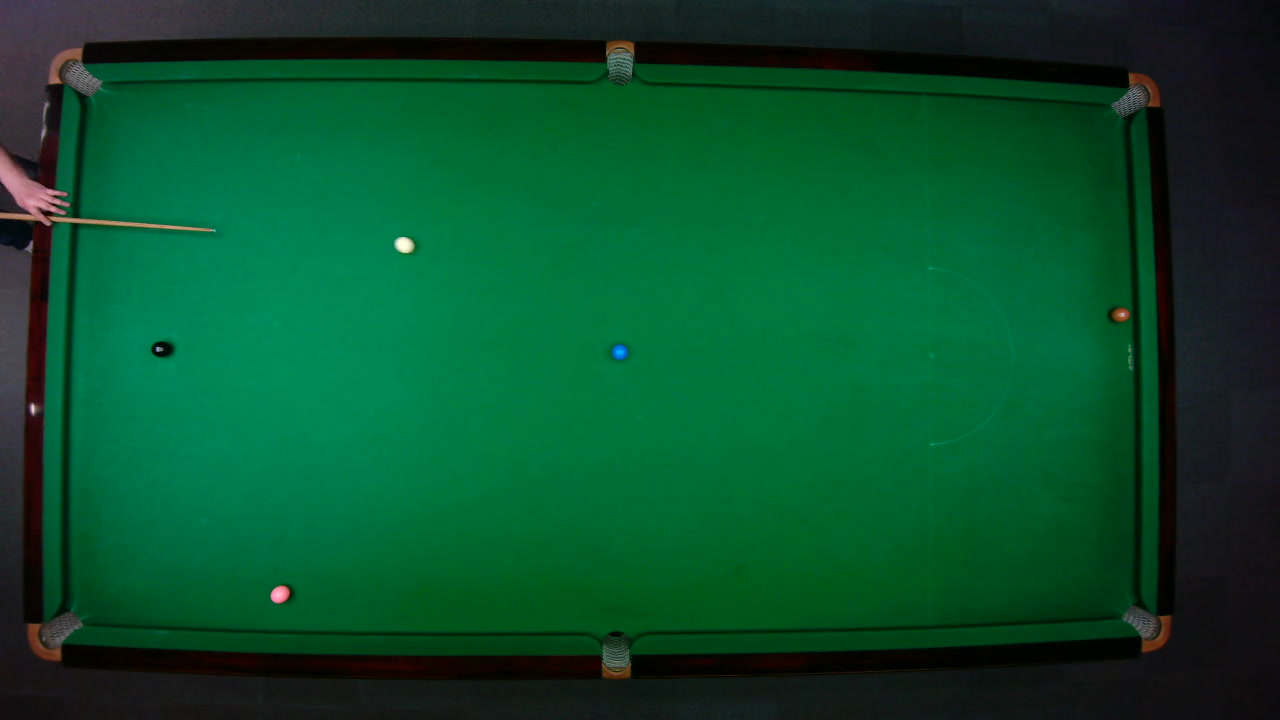bag: (25, 609, 83, 661), (46, 47, 102, 96), (1119, 603, 1171, 651), (1108, 72, 1161, 118), (601, 629, 630, 680), (605, 38, 633, 86)
black: (149, 339, 172, 357)
blue: (610, 342, 628, 360)
brown: (1109, 306, 1131, 322)
cue: (0, 211, 219, 236)
pink: (268, 583, 290, 604)
white: (392, 234, 416, 253)
zone: (927, 265, 1012, 445)
